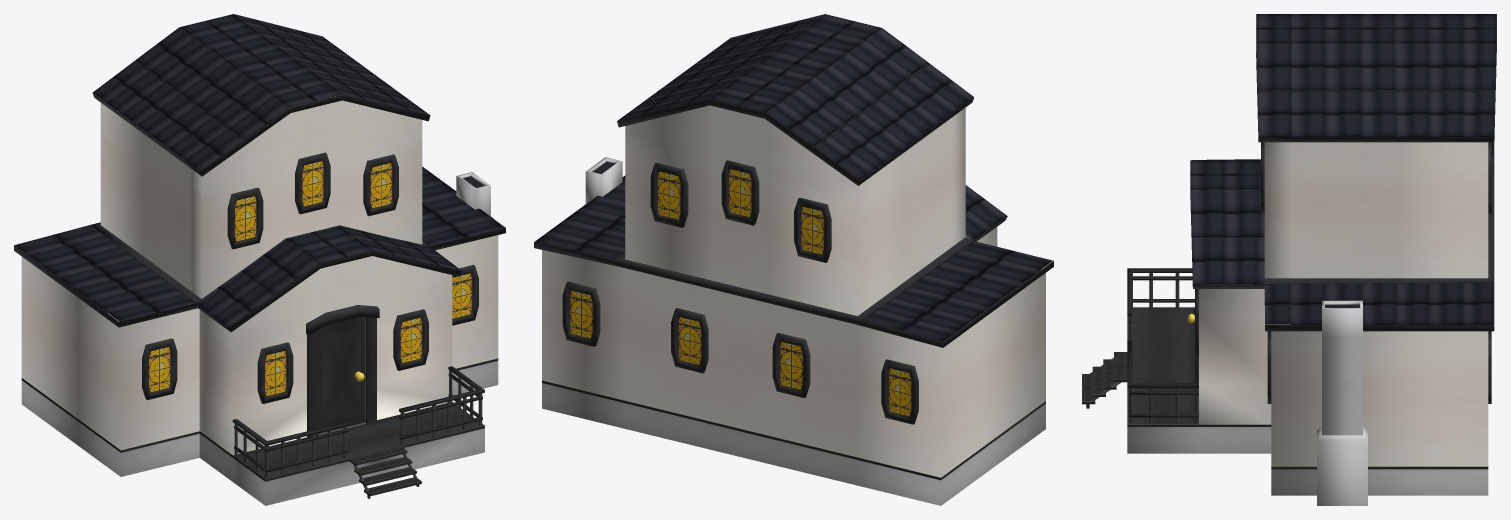
File: Town Houses Variant 3 (Blue).fbx
3 renders of one model, left to right at view 1: azimuth 30°, elevation 25°; view 2: azimuth 150°, elevation 25°; view 3: azimuth 270°, elevation 25°, orthographic. The views are drawn at different scales.
Parts seen in each view (by area): view 1: Town House 3 V3; view 2: Town House 3 V3; view 3: Town House 3 V3.
Part boxes in pixels (box(x1,y1,x2,y2)): Town House 3 V3: box(14, 14, 505, 505); Town House 3 V3: box(534, 14, 1053, 505); Town House 3 V3: box(1082, 14, 1496, 505).
Size of the model in its own units: 1022 by 815 by 836.
Materials: 1 (1 with a texture image).
